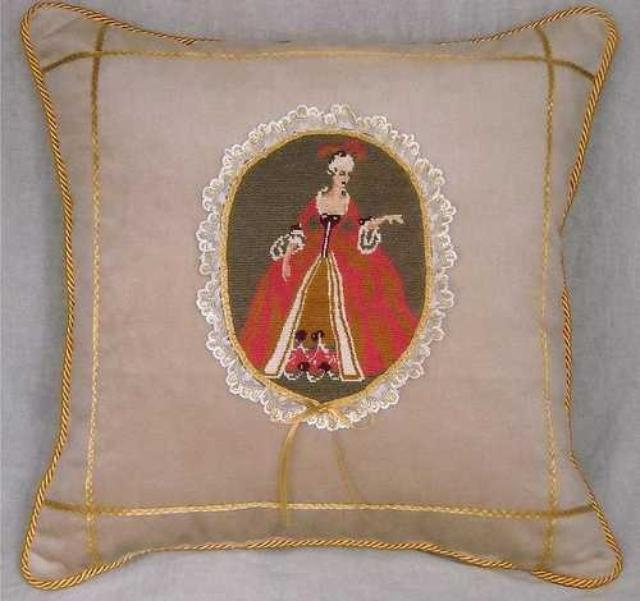pillow: (17, 1, 623, 592)
